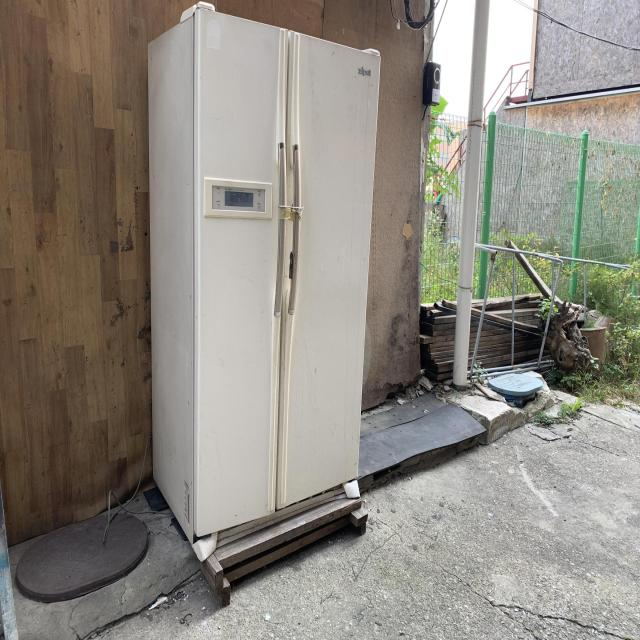refrigerator: (148, 0, 384, 555)
